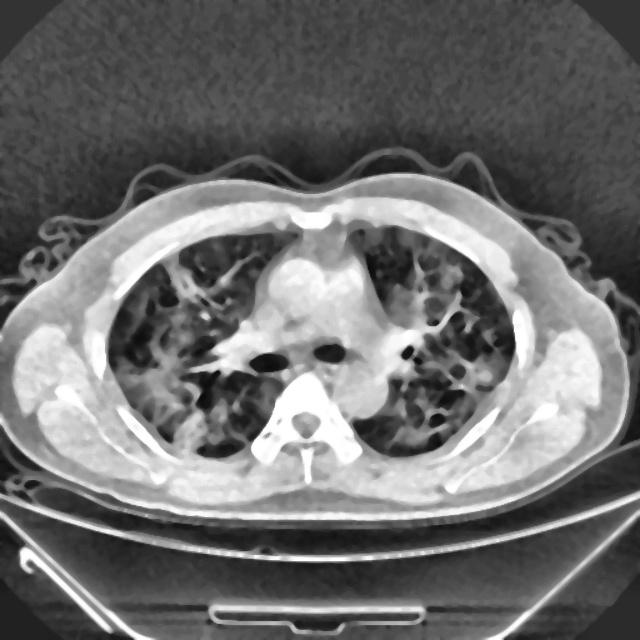covid: (1, 153, 634, 528)
